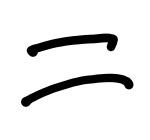eqv: (23, 33, 133, 107)
